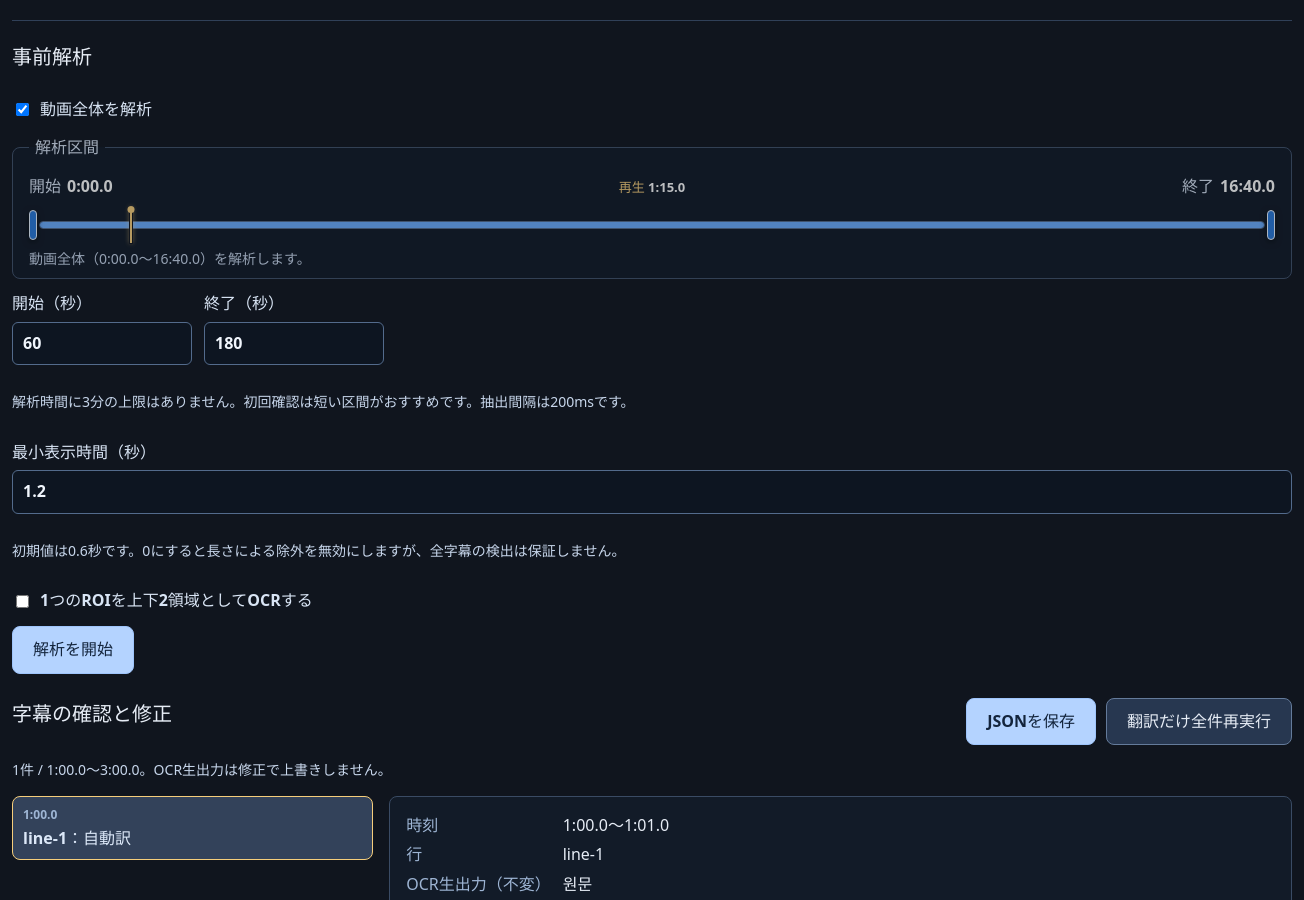
Test: restores the saved partial range after leaving saved whole-video mode
Expected: the slider named "解析開始" holds "0", [29,204,1275,246]
Expected: the slider named "解析終了" holds "1000", [29,204,1275,246]
What coordinates should you click on to do the following:
click the checkbox labelled "動画全体を解析"
I would click on:
 (22, 110)
Its box is [16,103,29,116].
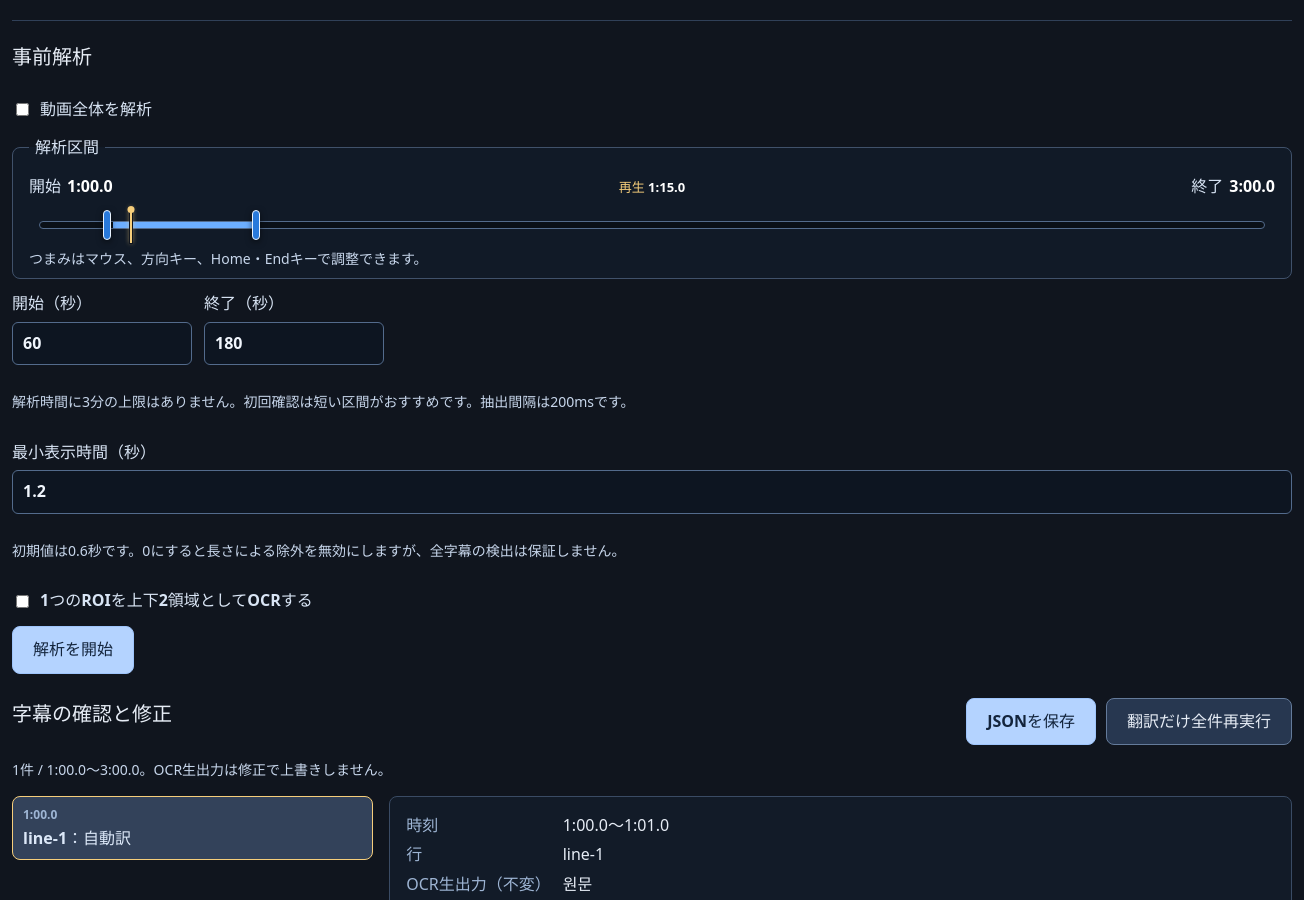
Expected: the slider named "解析開始" holds "60", [29,204,1275,246]
Expected: the slider named "解析終了" holds "180", [29,204,1275,246]
